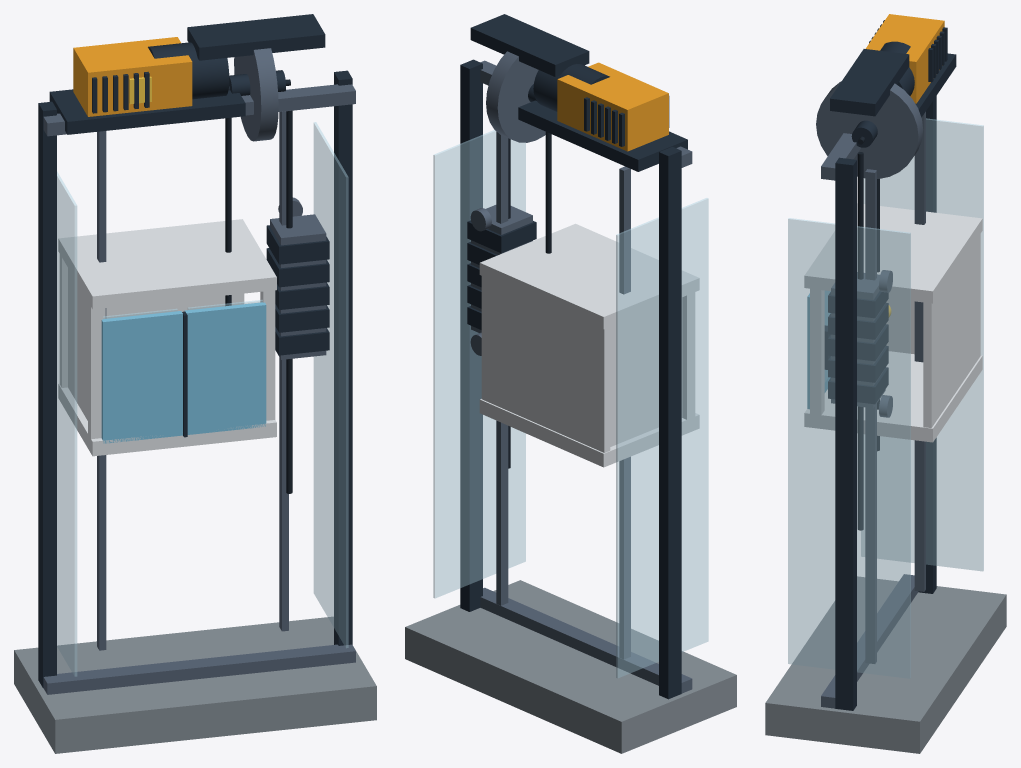
The model's file is elevator.glb.
The picture shows the model from 3 angles, left to right: view 1: azimuth 30°, elevation 25°; view 2: azimuth 150°, elevation 25°; view 3: azimuth 270°, elevation 25°; orthographic projection. The views are drawn at different scales.
Visible parts, largest first — view 1: concrete pit, right safety glass, cab roof, left shaft rail, right shaft rail, left sliding door, right sliding door, left safety glass, motor housing, back crossbeam bottom, pulley bracket, motor base (+20 smaller); view 2: left safety glass, right safety glass, concrete pit, cab back wall, left shaft rail, cab roof, right shaft rail, cab side wall, motor housing, back crossbeam bottom, left guide rail, pulley bracket (+9 smaller); view 3: right safety glass, concrete pit, left safety glass, right shaft rail, cab roof, cab back wall, pulley wheel, cab floor, right guide rail, pulley bracket, left guide rail, left shaft rail (+16 smaller).
Boxes of the visible parts, x1=… form: concrete pit: x1=14, y1=616, x2=376, y2=753; right safety glass: x1=313, y1=122, x2=348, y2=648; cab roof: x1=58, y1=219, x2=276, y2=309; left shaft rail: x1=38, y1=101, x2=56, y2=688; right shaft rail: x1=334, y1=70, x2=352, y2=645; left sliding door: x1=101, y1=311, x2=182, y2=443; right sliding door: x1=184, y1=302, x2=266, y2=434; left safety glass: x1=57, y1=171, x2=77, y2=676; motor housing: x1=73, y1=37, x2=192, y2=116; back crossbeam bottom: x1=43, y1=644, x2=355, y2=694; pulley bracket: x1=187, y1=14, x2=325, y2=60; motor base: x1=49, y1=89, x2=245, y2=134; left safety glass: x1=616, y1=198, x2=708, y2=678; right safety glass: x1=433, y1=130, x2=525, y2=598; concrete pit: x1=405, y1=580, x2=736, y2=753; cab back wall: x1=481, y1=276, x2=610, y2=452; left shaft rail: x1=659, y1=146, x2=681, y2=699; cab roof: x1=479, y1=223, x2=699, y2=329; right shaft rail: x1=460, y1=59, x2=482, y2=611; cab side wall: x1=610, y1=298, x2=682, y2=446; motor housing: x1=557, y1=62, x2=668, y2=151; back crossbeam bottom: x1=480, y1=587, x2=692, y2=693; left guide rail: x1=619, y1=166, x2=630, y2=659; pulley bracket: x1=470, y1=14, x2=589, y2=76; right safety glass: x1=788, y1=218, x2=910, y2=678; concrete pit: x1=765, y1=576, x2=1006, y2=753; left safety glass: x1=861, y1=118, x2=983, y2=571; right shaft rail: x1=835, y1=157, x2=856, y2=710; cab roof: x1=804, y1=203, x2=982, y2=303; cab back wall: x1=923, y1=234, x2=980, y2=427; pulley wheel: x1=816, y1=81, x2=923, y2=178; cab floor: x1=804, y1=351, x2=982, y2=442; right guide rail: x1=865, y1=169, x2=876, y2=663; pulley bracket: x1=830, y1=49, x2=909, y2=116; left guide rail: x1=914, y1=111, x2=925, y2=591; left shaft rail: x1=918, y1=96, x2=936, y2=593.
Size of the model in its own units: 4.08 by 8.19 by 2.85.
